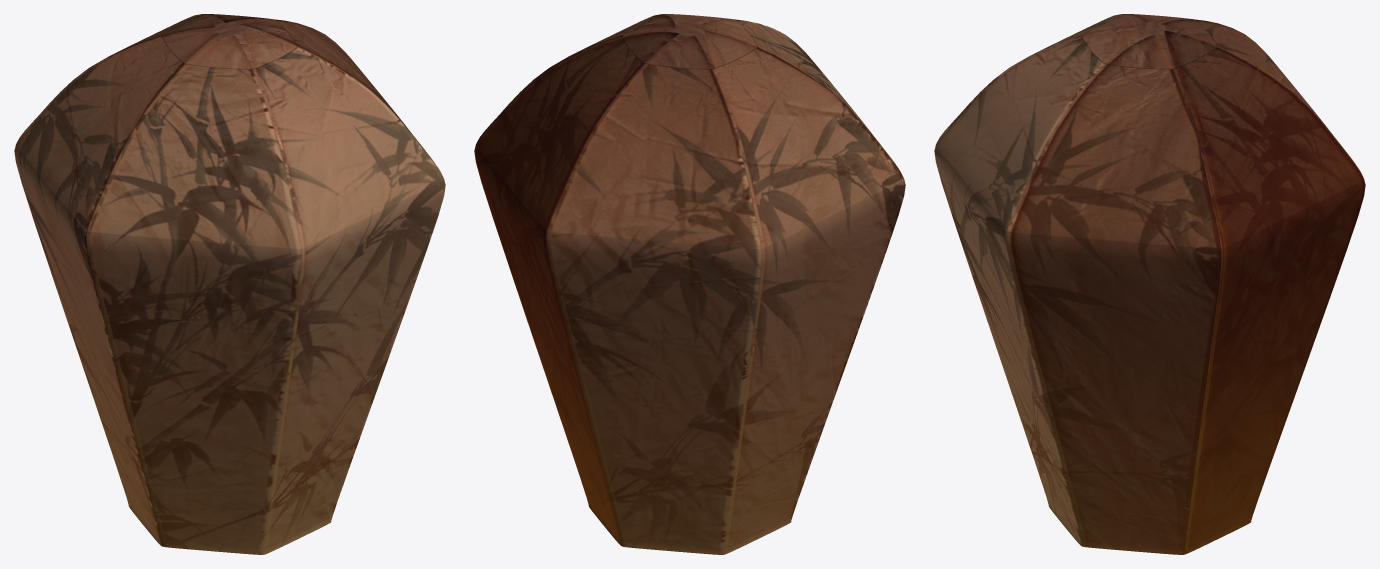
File: flying_lantern.obj
The picture shows the model from 3 angles, left to right: view 1: azimuth 30°, elevation 25°; view 2: azimuth 150°, elevation 25°; view 3: azimuth 270°, elevation 25°; orthographic projection.
Parts seen in each view (by area): view 1: Object_4.002; view 2: Object_4.002; view 3: Object_4.002.
Part boxes in pixels (<box>): Object_4.002: <box>14,14,445,554</box>; Object_4.002: <box>474,14,905,554</box>; Object_4.002: <box>934,14,1365,554</box>.
Size of the model in its own units: 0.3738 by 0.4812 by 0.3877.
Materials: 2 (1 with a texture image).
